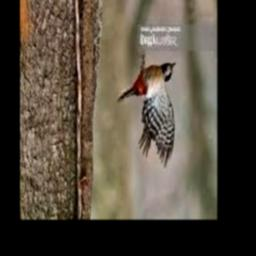Woodpecker: (117, 53, 176, 169)
